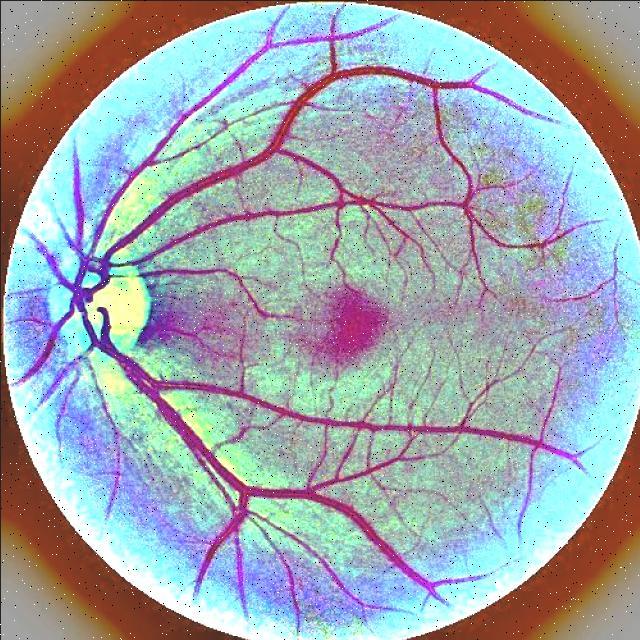Macula: (324, 281, 387, 360)
Nerves: (10, 45, 539, 498), (352, 512, 431, 590)
Optic Disk: (52, 237, 146, 353)
